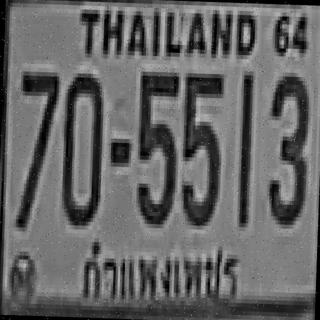N00: (59, 69, 102, 222)
N01: (234, 69, 253, 225)
N03: (265, 72, 308, 221)
N05: (178, 67, 222, 224), (134, 67, 178, 224)
N07: (15, 67, 58, 224)
P16: (75, 236, 245, 308)
